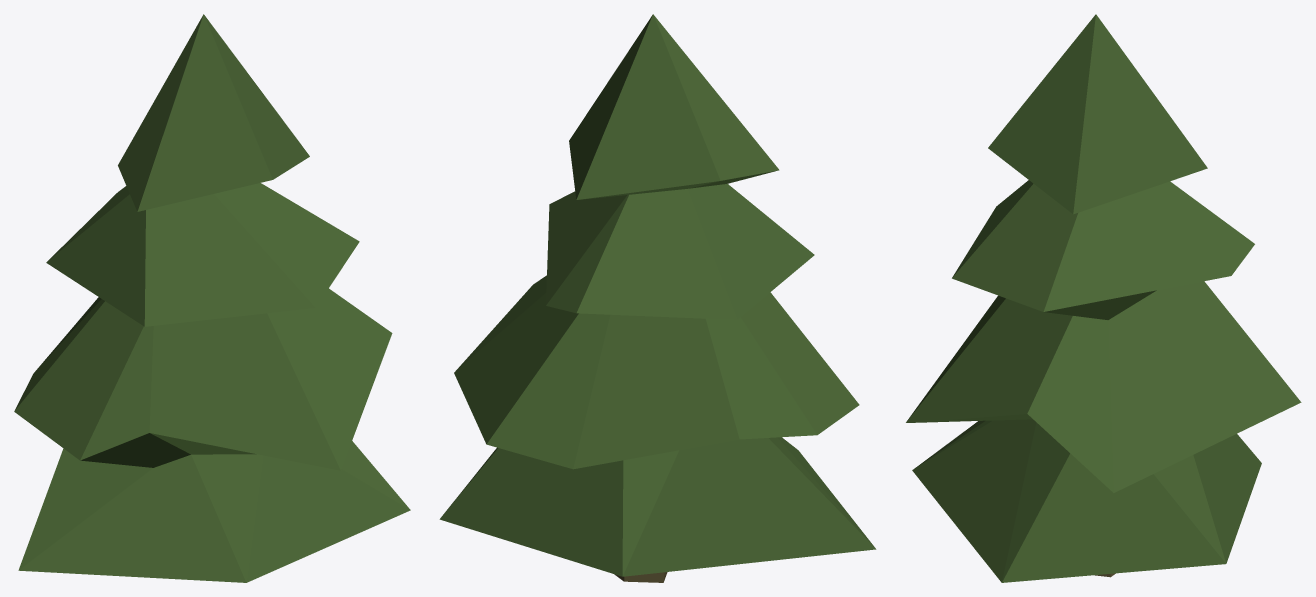
The model's file is TreeAutumn5.fbx.
3 renders of one model, left to right at view 1: azimuth 30°, elevation 25°; view 2: azimuth 150°, elevation 25°; view 3: azimuth 270°, elevation 25°, orthographic. The views are drawn at different scales.
Parts seen in each view (by area): view 1: TreeAutumn5; view 2: TreeAutumn5; view 3: TreeAutumn5.
Part boxes in pixels (box(x1,y1,x2,y2)): TreeAutumn5: box(14, 14, 410, 582); TreeAutumn5: box(439, 14, 876, 582); TreeAutumn5: box(906, 14, 1301, 582).
Bounding box in the file's own units: 1.27 × 1.72 × 1.13.
